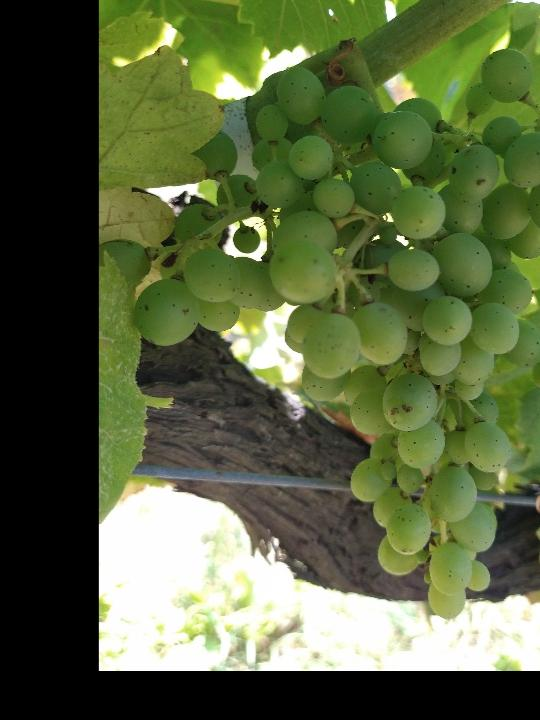grape: (105, 39, 540, 620)
